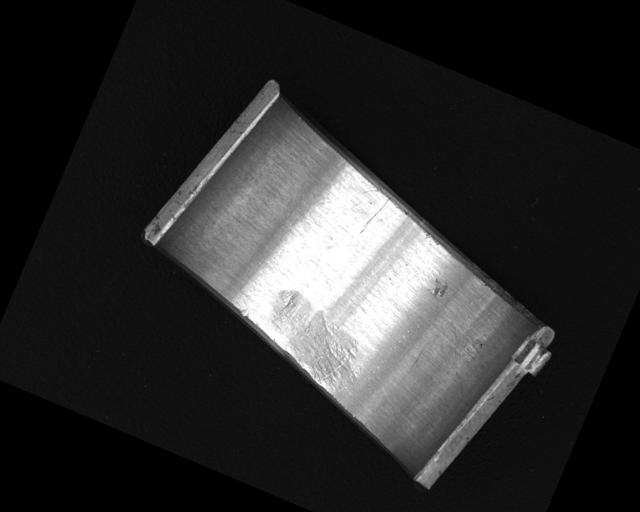bruise: (428, 275, 451, 301), (239, 307, 251, 319)
nick: (357, 190, 392, 240)
scratch: (248, 283, 380, 398)
